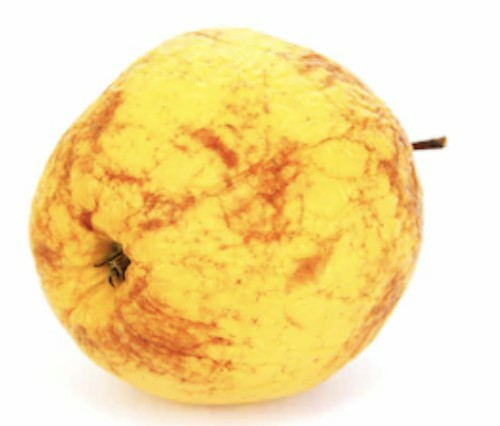rotten_apple: (29, 28, 423, 403)
